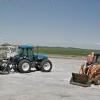Tractor: (9, 33, 59, 83)
